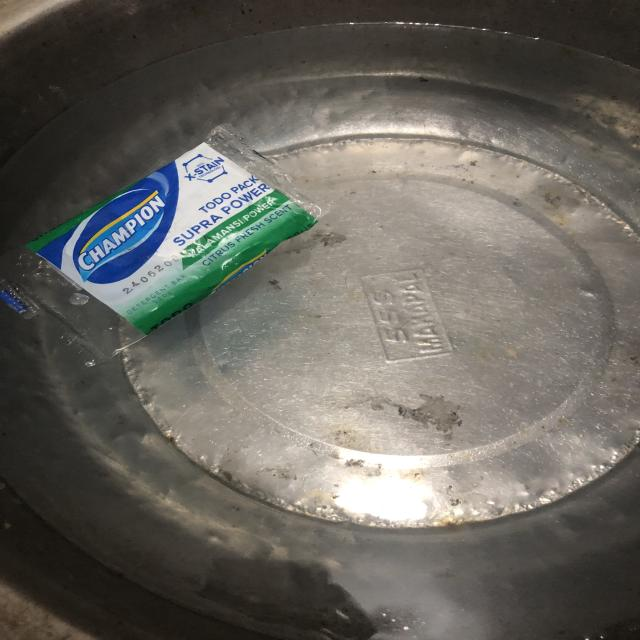Plastic Wrapper: (0, 120, 342, 369)
